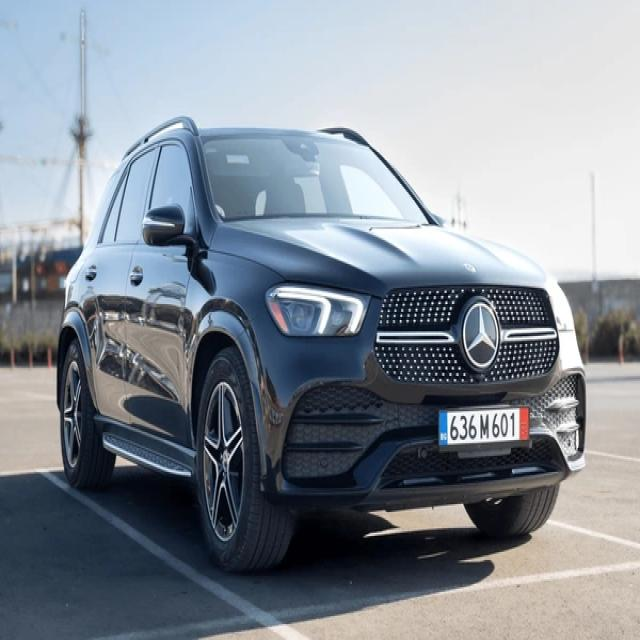mercedes: (455, 298, 502, 377)
